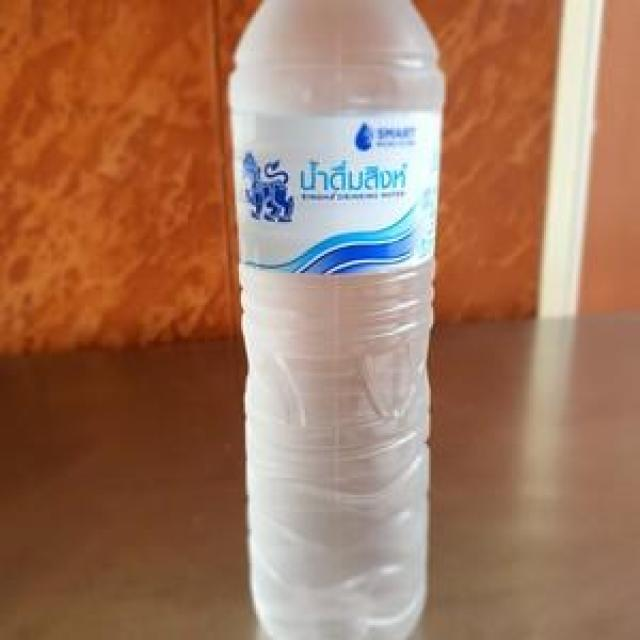bottle: (222, 0, 450, 640)
